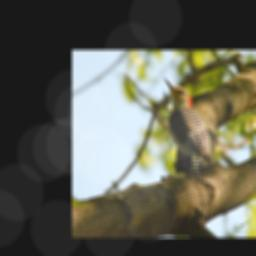Woodpecker: (163, 77, 211, 181)
